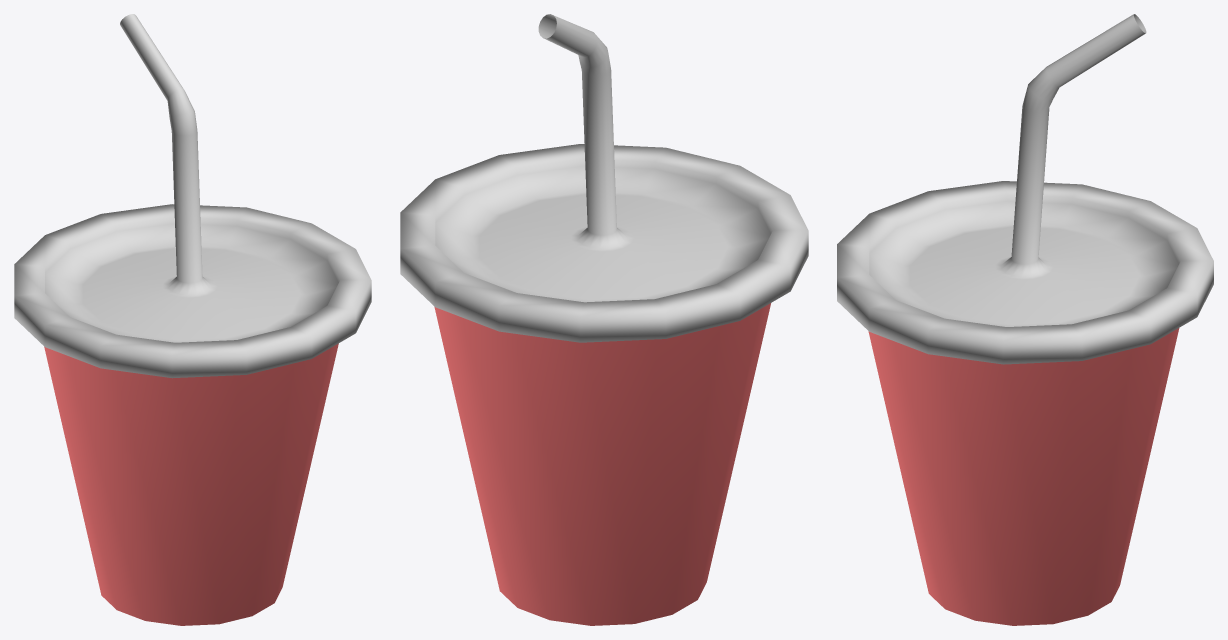
The model's file is kola.fbx.
The picture shows the model from 3 angles, left to right: view 1: azimuth 30°, elevation 25°; view 2: azimuth 150°, elevation 25°; view 3: azimuth 270°, elevation 25°; orthographic projection. The views are drawn at different scales.
Parts seen in each view (by area): view 1: Cylinder; view 2: Cylinder; view 3: Cylinder.
Boxes of the visible parts, box(x1,y1,x2,y2) form: Cylinder: box(14, 14, 371, 625); Cylinder: box(400, 14, 808, 625); Cylinder: box(837, 14, 1213, 625).
Bounding box in the file's own units: 22.82 × 37.66 × 22.7.
